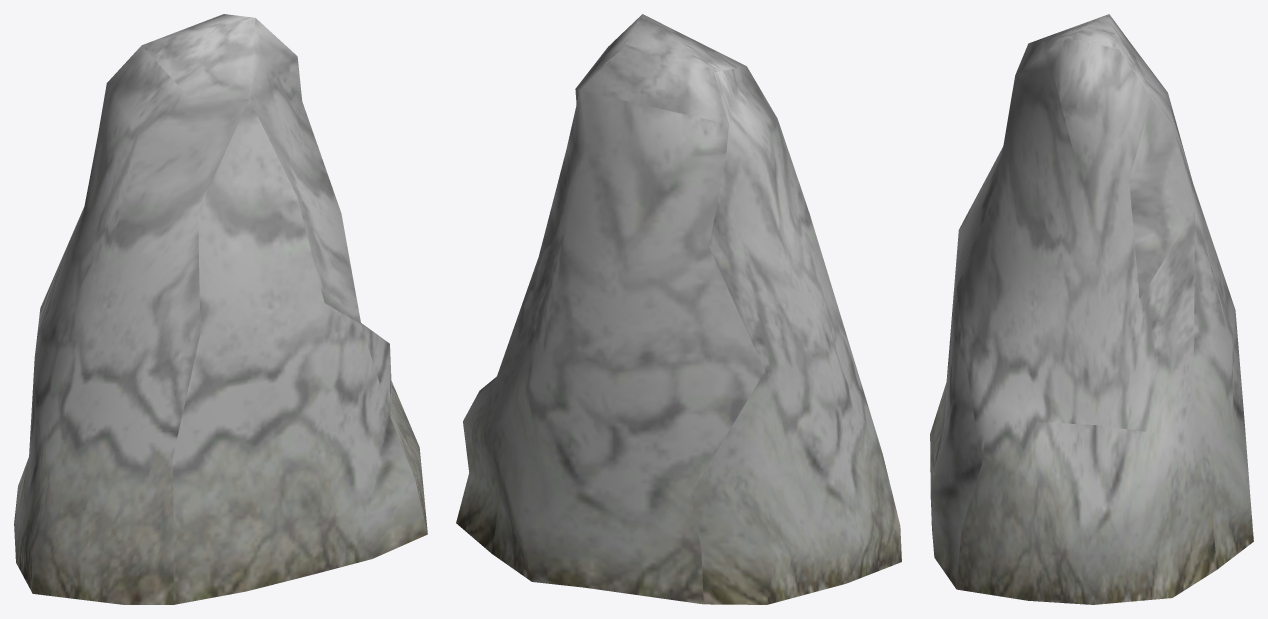
File: general_obj_bigstone09.fbx
The picture shows the model from 3 angles, left to right: view 1: azimuth 30°, elevation 25°; view 2: azimuth 150°, elevation 25°; view 3: azimuth 270°, elevation 25°; orthographic projection.
Parts seen in each view (by area): view 1: Sphere01fs01; view 2: Sphere01fs01; view 3: Sphere01fs01.
Boxes of the visible parts, x1,y1,x2,y2 form: Sphere01fs01: (14, 14, 427, 604); Sphere01fs01: (456, 14, 901, 604); Sphere01fs01: (930, 14, 1253, 604).
Bounding box in the file's own units: 15.79 × 19.25 × 11.38.
